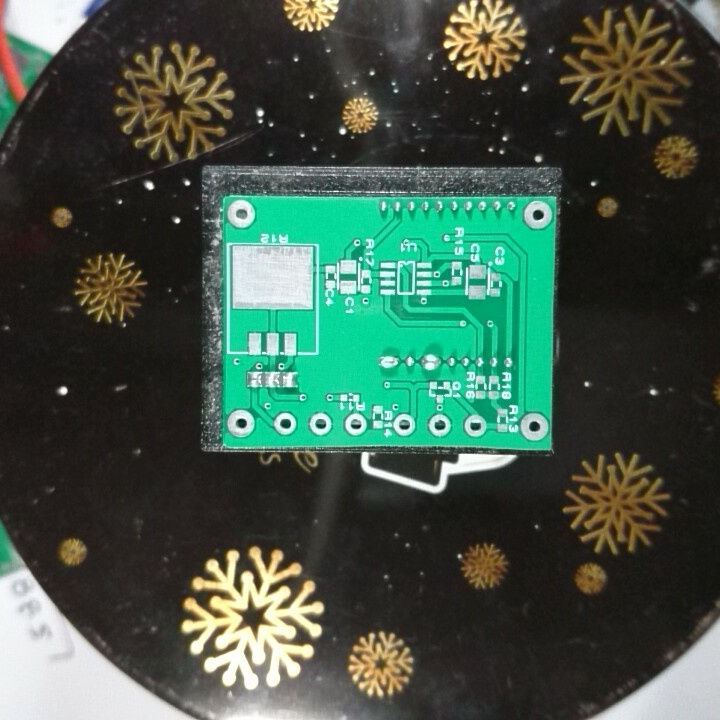F: (225, 407, 258, 440), (225, 199, 260, 230), (522, 200, 555, 232), (519, 410, 551, 443), (307, 411, 336, 438), (425, 412, 455, 438), (462, 412, 488, 440), (271, 409, 299, 435), (390, 412, 417, 438), (341, 410, 369, 435)
P: (419, 352, 443, 373), (376, 353, 402, 371)
